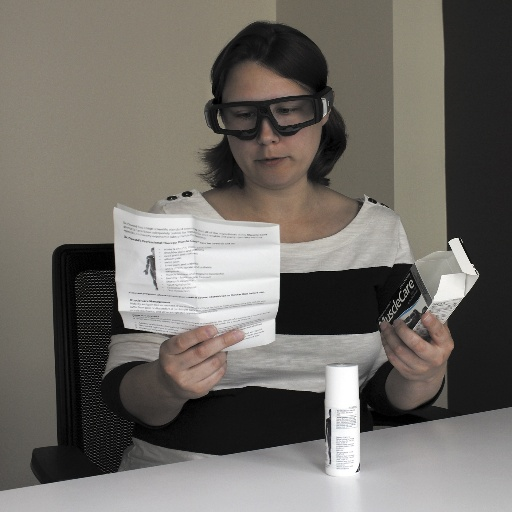hand: (136, 318, 251, 403), (377, 311, 456, 384)
